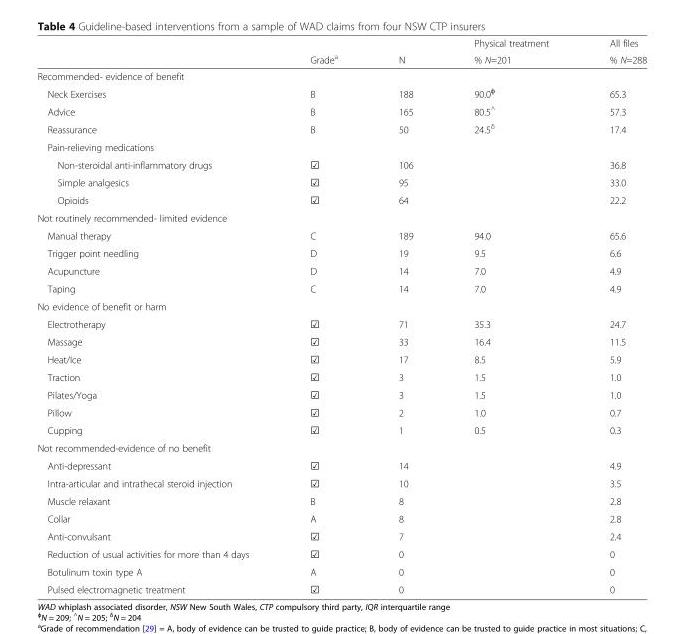table: (36, 37, 646, 594)
table column: (36, 37, 278, 594), (443, 37, 578, 594), (278, 37, 367, 594), (367, 37, 443, 594), (578, 37, 646, 594)
table column header: (36, 37, 646, 67)
table projected row header: (36, 137, 646, 155), (36, 208, 646, 226), (36, 438, 646, 456), (36, 297, 646, 314), (36, 67, 646, 83)
table row: (36, 83, 646, 101), (36, 101, 646, 119), (36, 119, 646, 137), (36, 137, 646, 155), (36, 155, 646, 173), (36, 190, 646, 208), (36, 208, 646, 226), (36, 226, 646, 244), (36, 261, 646, 279), (36, 279, 646, 297), (36, 314, 646, 332), (36, 332, 646, 350), (36, 367, 646, 385), (36, 385, 646, 403), (36, 420, 646, 438), (36, 438, 646, 456), (36, 473, 646, 491), (36, 491, 646, 509), (36, 509, 646, 527), (36, 544, 646, 562), (36, 562, 646, 580), (36, 50, 646, 67), (36, 173, 646, 190), (36, 244, 646, 261), (36, 297, 646, 314), (36, 350, 646, 367), (36, 403, 646, 420), (36, 456, 646, 473), (36, 527, 646, 544), (36, 67, 646, 83), (36, 580, 646, 594), (36, 37, 646, 50)
table spanning cell: (443, 37, 578, 67), (278, 37, 367, 67), (367, 37, 443, 67), (578, 37, 646, 67)
